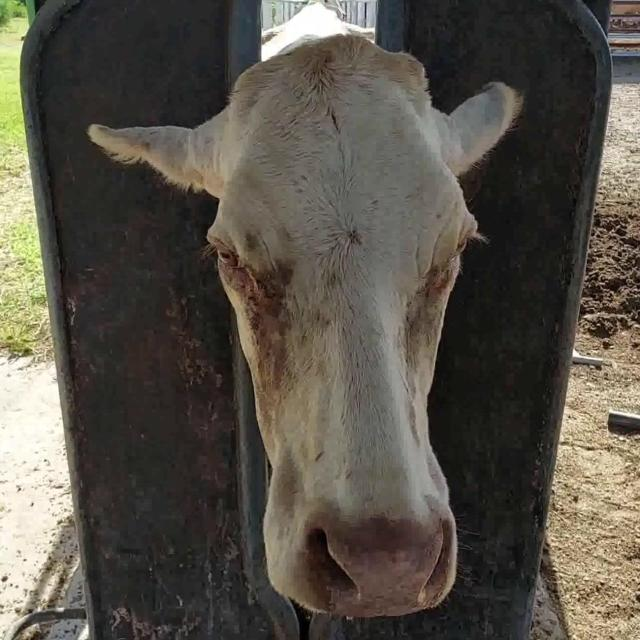cowFace: (206, 31, 477, 614)
